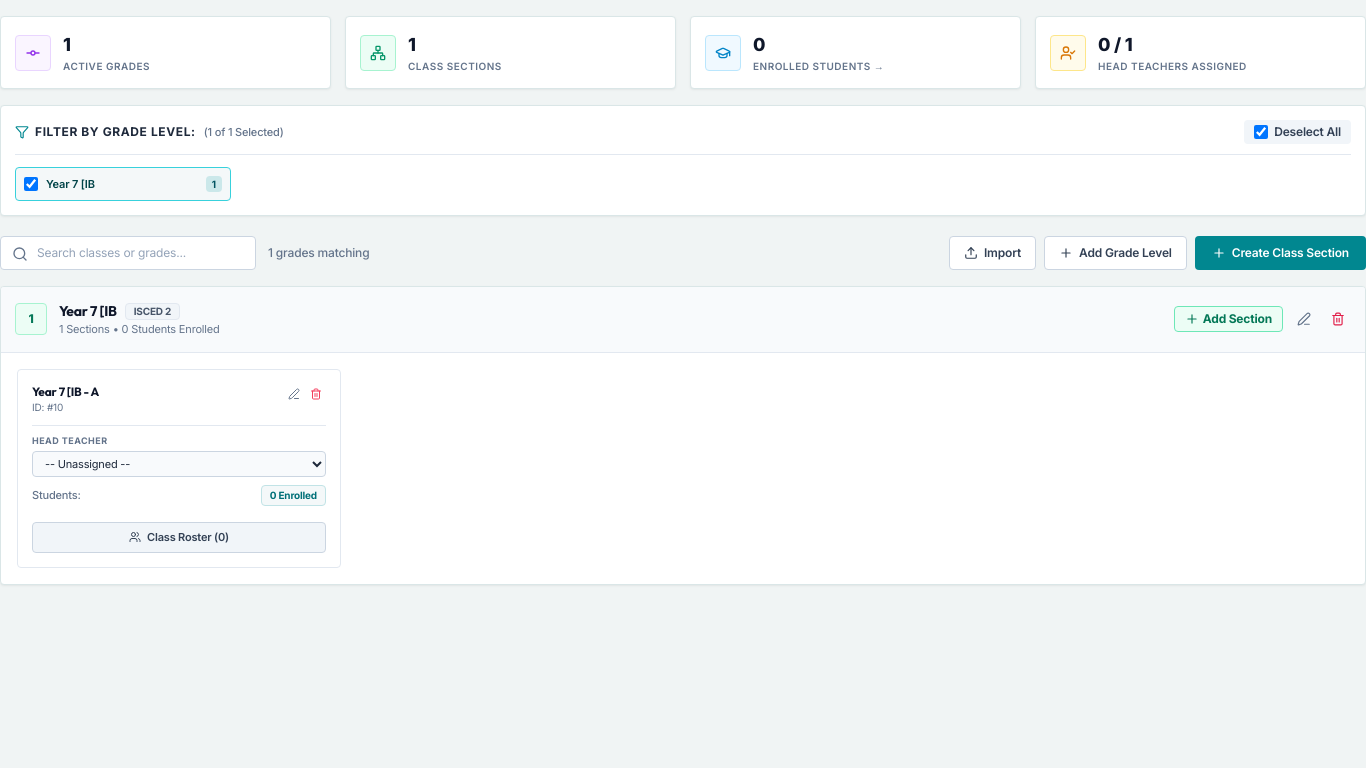
Test case: StructureClassesView.vue › does not crash opening the Edit modal for a grade name containing an unbalanced regex character class
Click the button titled "Edit Section".
click(294, 394)  # box [284, 384, 304, 404]
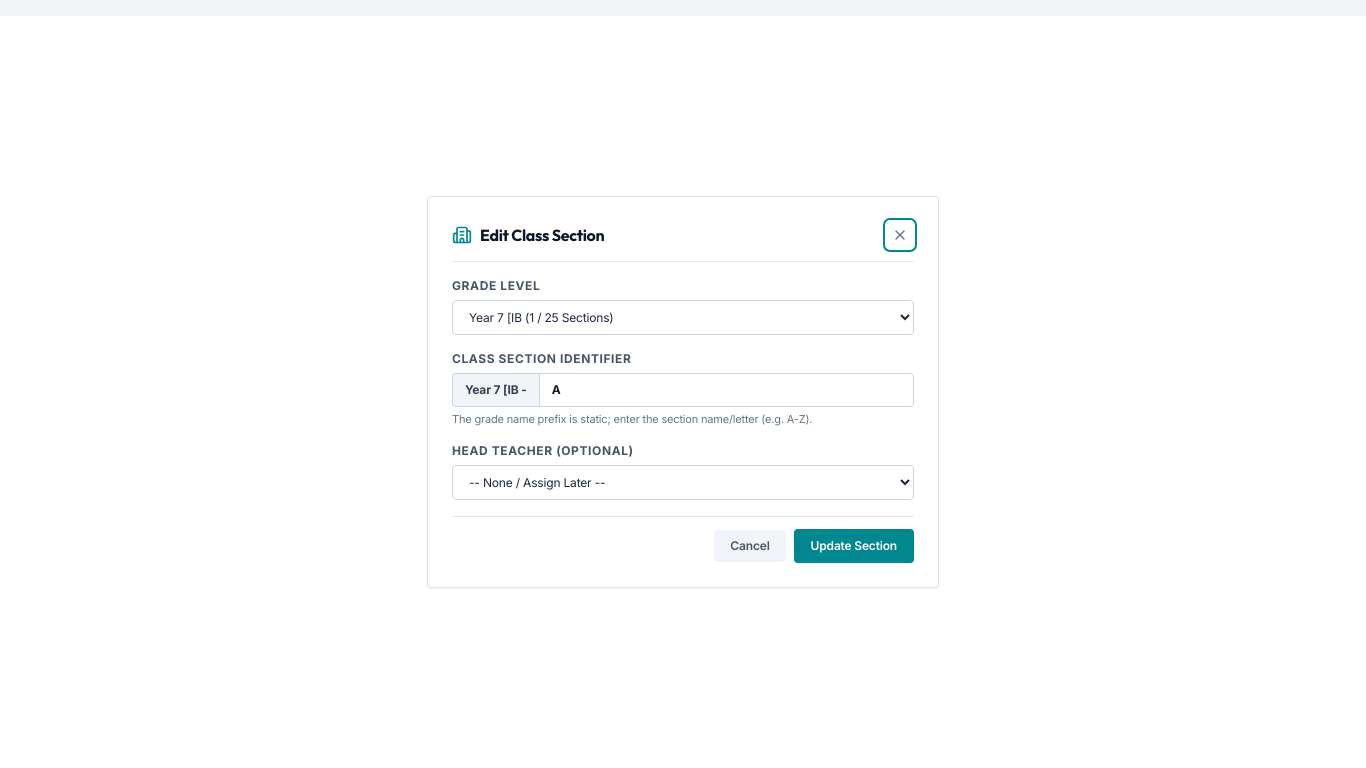
Check: the text "Edit Class Section" is shown, box [452, 223, 604, 247]
